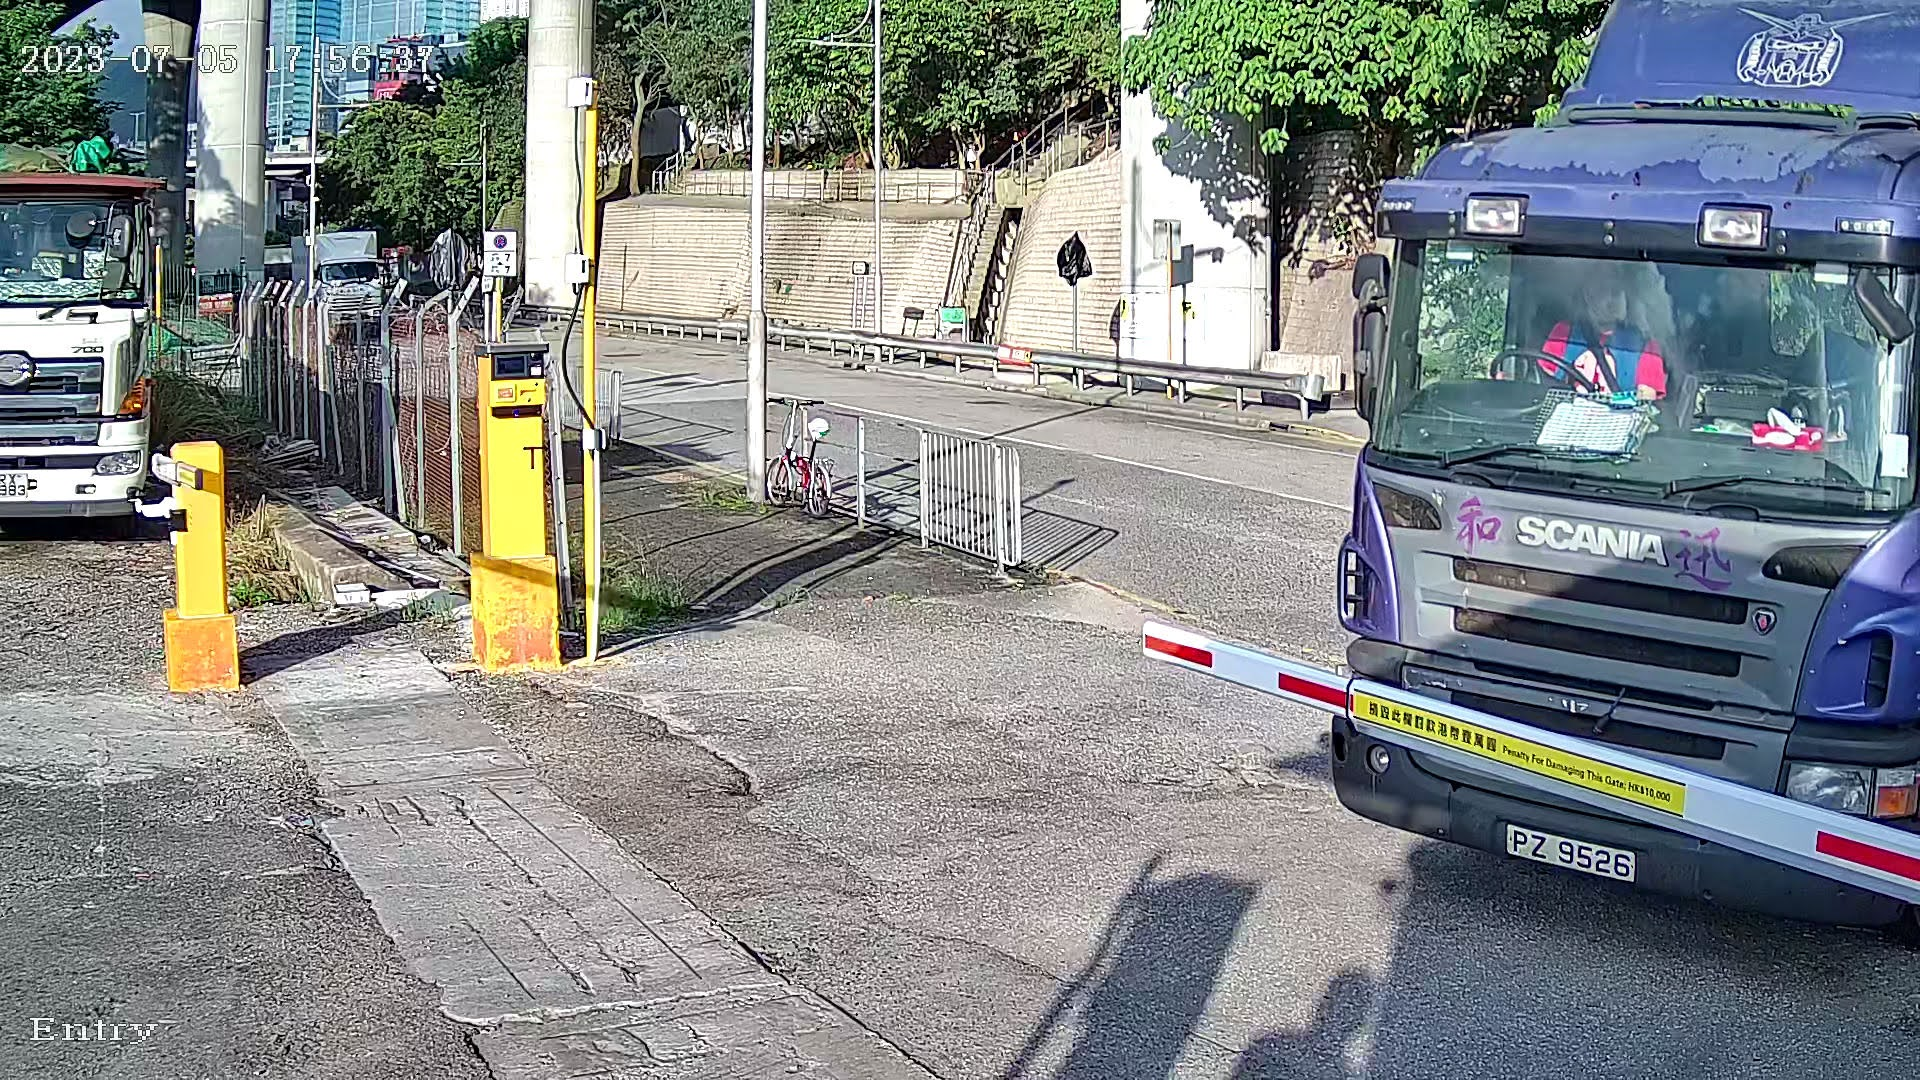truck_large: (1258, 18, 1920, 953)
